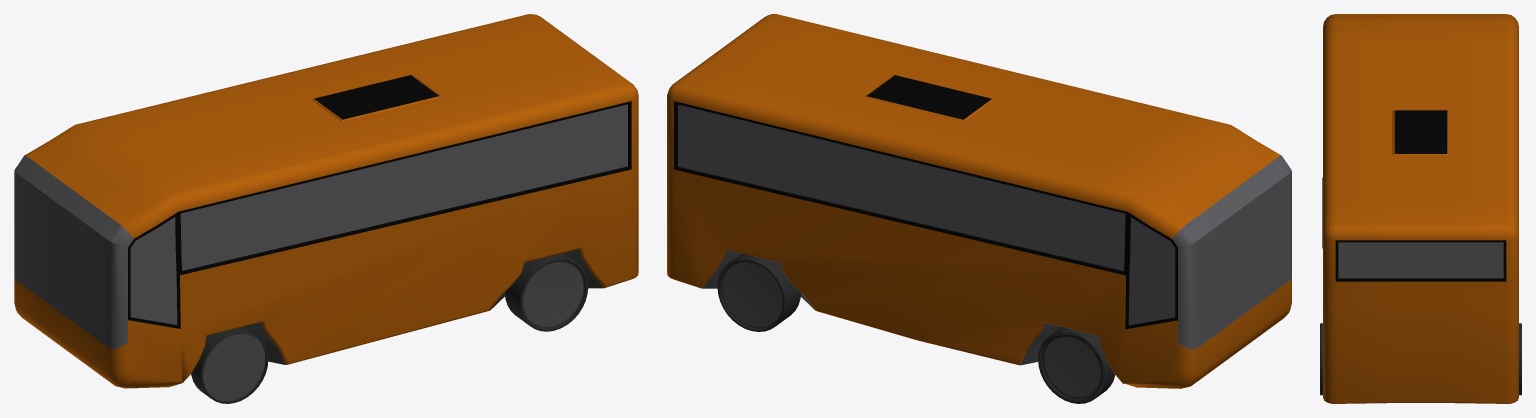
File: bus.fbx
3 views of the same model, side by side, from view 1: azimuth 30°, elevation 25°; view 2: azimuth 150°, elevation 25°; view 3: azimuth 270°, elevation 25° (orthographic). The views are drawn at different scales.
Visible parts, largest first — view 1: Cube; view 2: Cube; view 3: Cube.
Part boxes in pixels (x1,y1,x2,y2): Cube: [14, 14, 638, 403]; Cube: [667, 14, 1291, 403]; Cube: [1320, 14, 1521, 403].
Bounding box in the file's own units: 3911 × 1581 × 1412.
